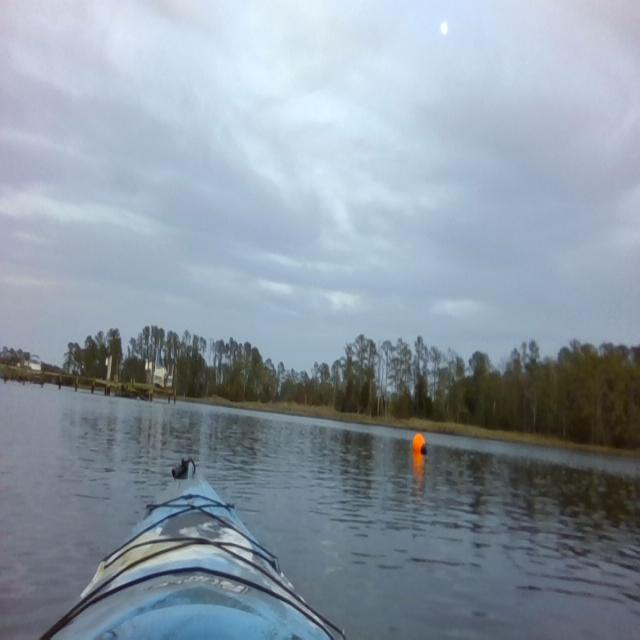Buoy: (412, 432, 428, 458)
